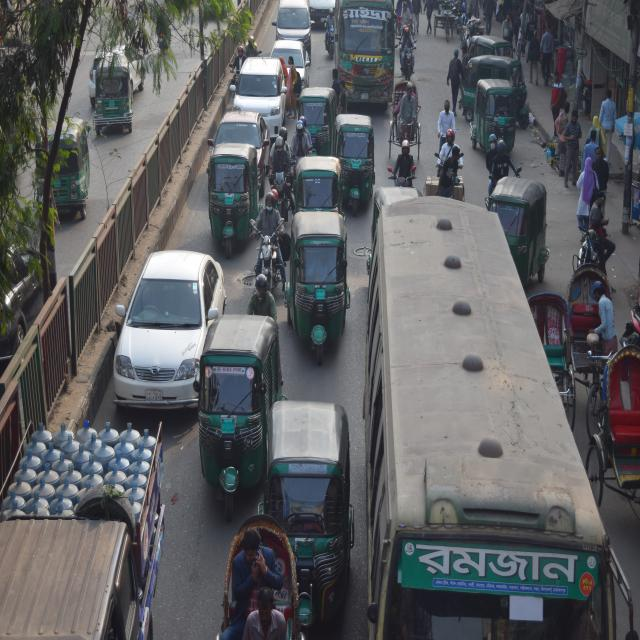bus: (365, 205, 617, 640), (329, 0, 403, 110)
car: (112, 236, 225, 425), (204, 106, 273, 174), (259, 31, 323, 81)
microbus: (239, 47, 285, 122)
motorbike: (248, 232, 285, 302), (384, 142, 421, 182)
pickup-van: (0, 375, 161, 635)
